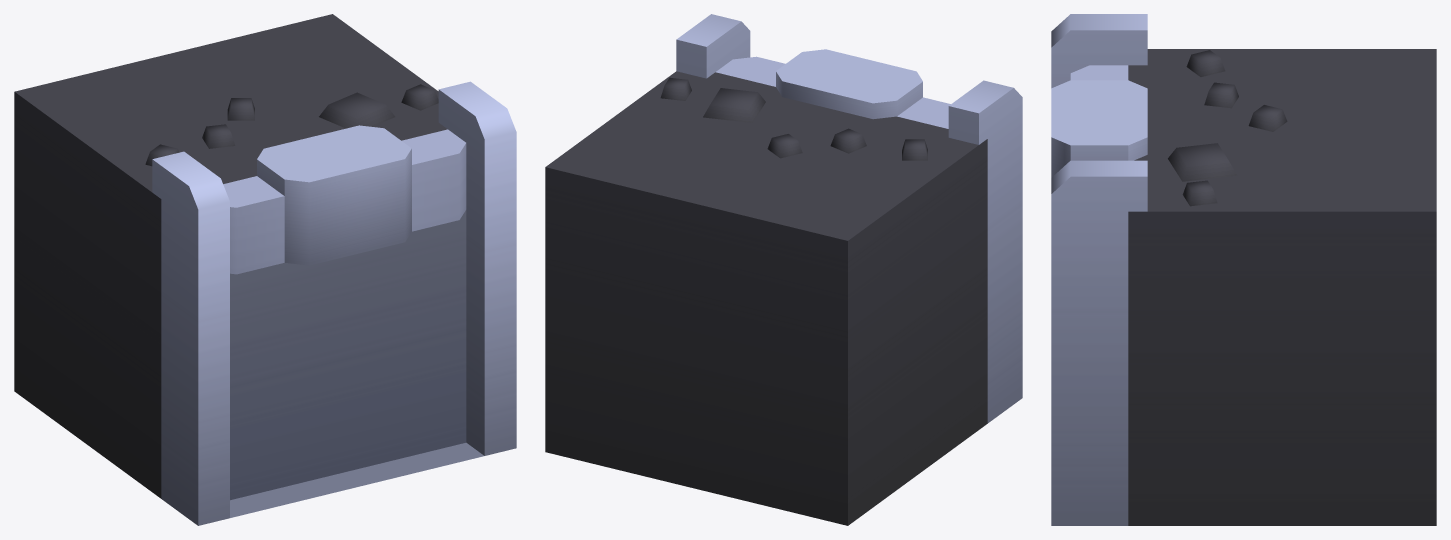
The picture shows the model from 3 angles, left to right: view 1: azimuth 30°, elevation 25°; view 2: azimuth 150°, elevation 25°; view 3: azimuth 270°, elevation 25°; orthographic projection. The views are drawn at different scales.
Visible parts, largest first — view 1: wall_half; view 2: wall_half; view 3: wall_half.
Boxes of the visible parts, x1,y1,x2,y2 form: wall_half: (14, 14, 516, 525); wall_half: (545, 14, 1022, 525); wall_half: (1051, 14, 1436, 525).
Bounding box in the file's own units: 1 × 1 × 1.
Materials: 1 (1 with a texture image).
